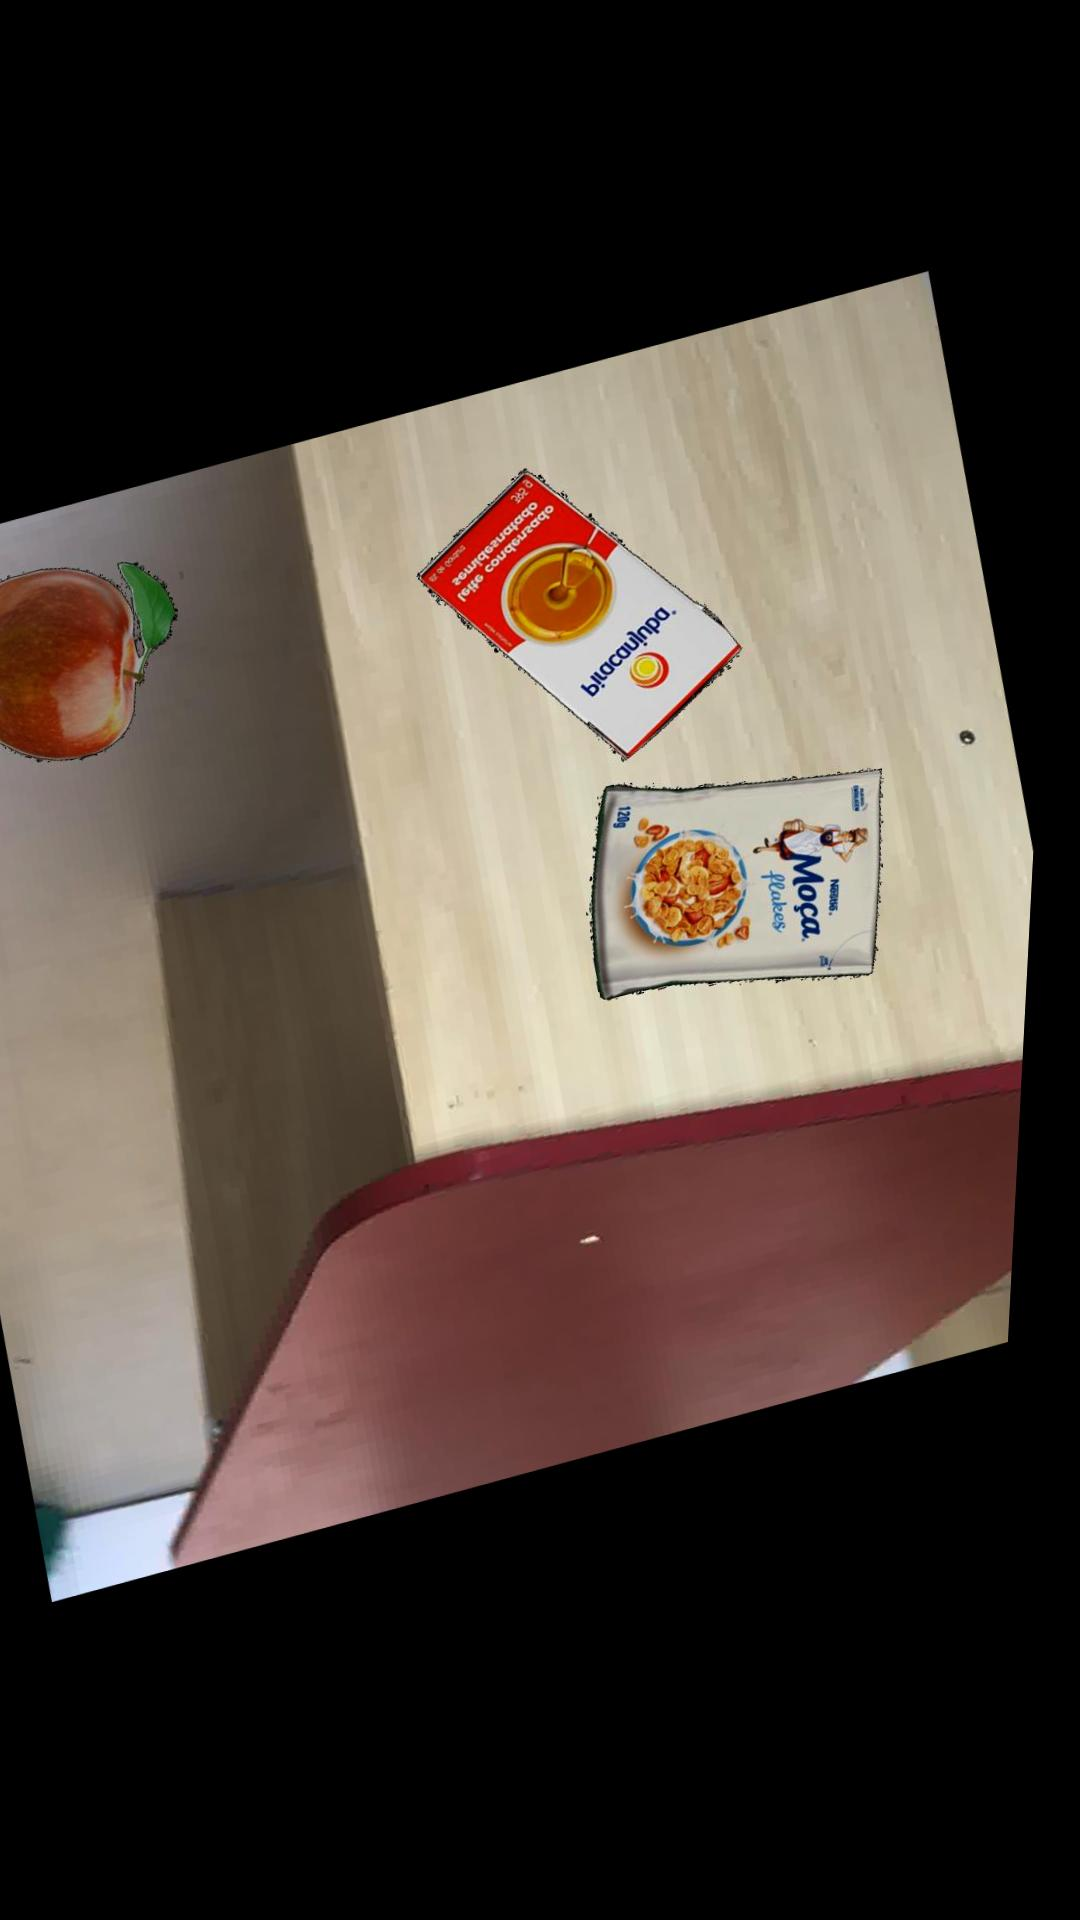apple: (0, 562, 182, 761)
corn flakes: (597, 775, 889, 1005)
